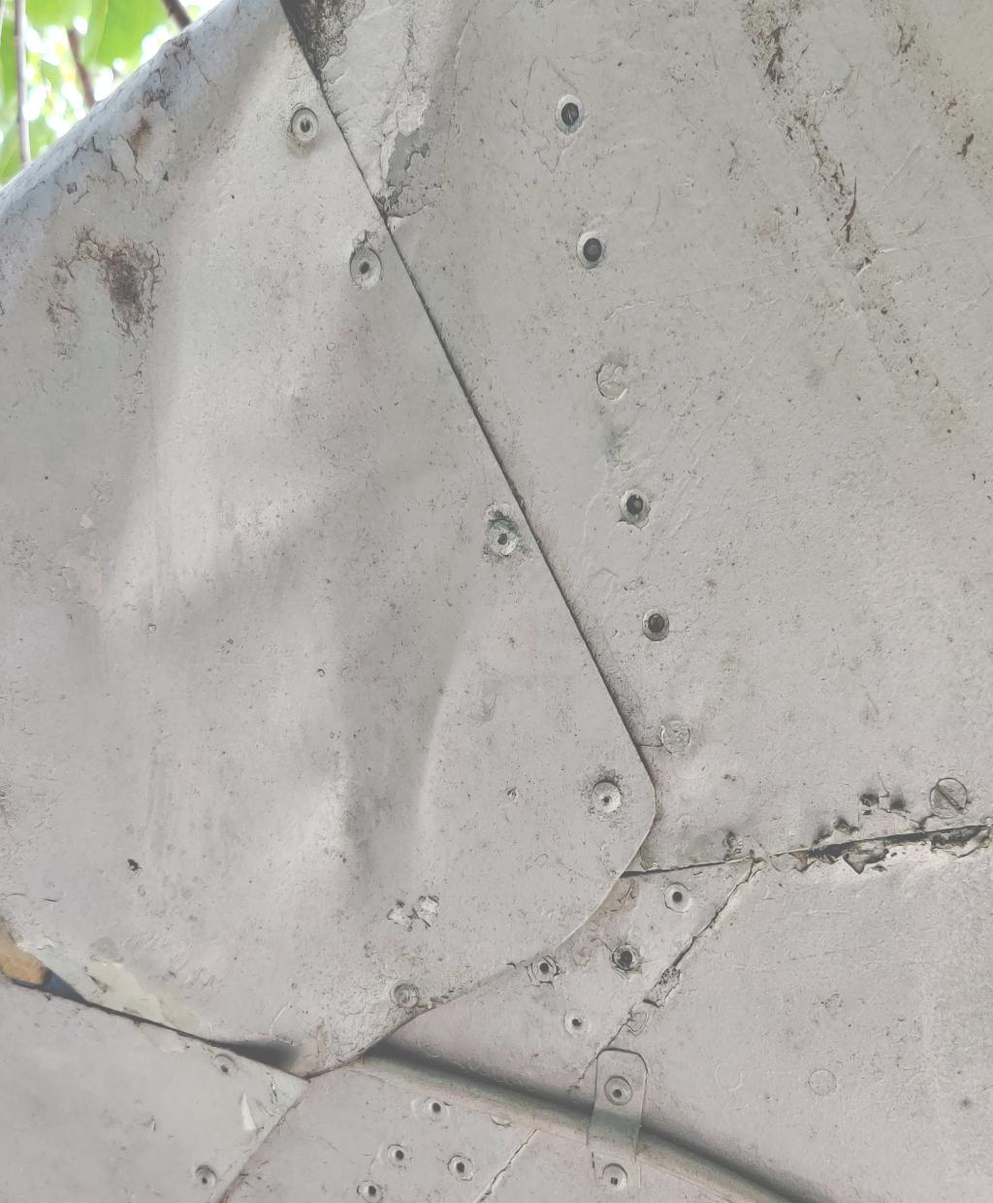dent: (38, 0, 573, 903)
